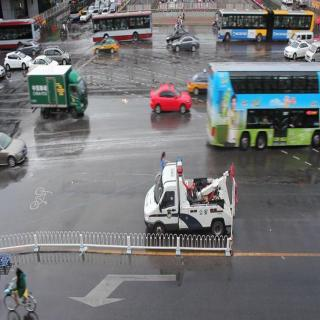BigCar: (206, 62, 320, 154), (26, 65, 88, 120), (214, 5, 313, 38), (93, 14, 153, 44), (0, 21, 41, 43), (68, 0, 80, 23)
Car: (144, 159, 231, 238), (147, 85, 192, 121), (185, 66, 209, 100), (172, 36, 202, 57), (4, 49, 31, 72), (44, 43, 73, 64), (94, 39, 121, 58), (284, 39, 306, 59), (307, 41, 320, 62), (80, 12, 89, 24), (110, 3, 117, 12)
